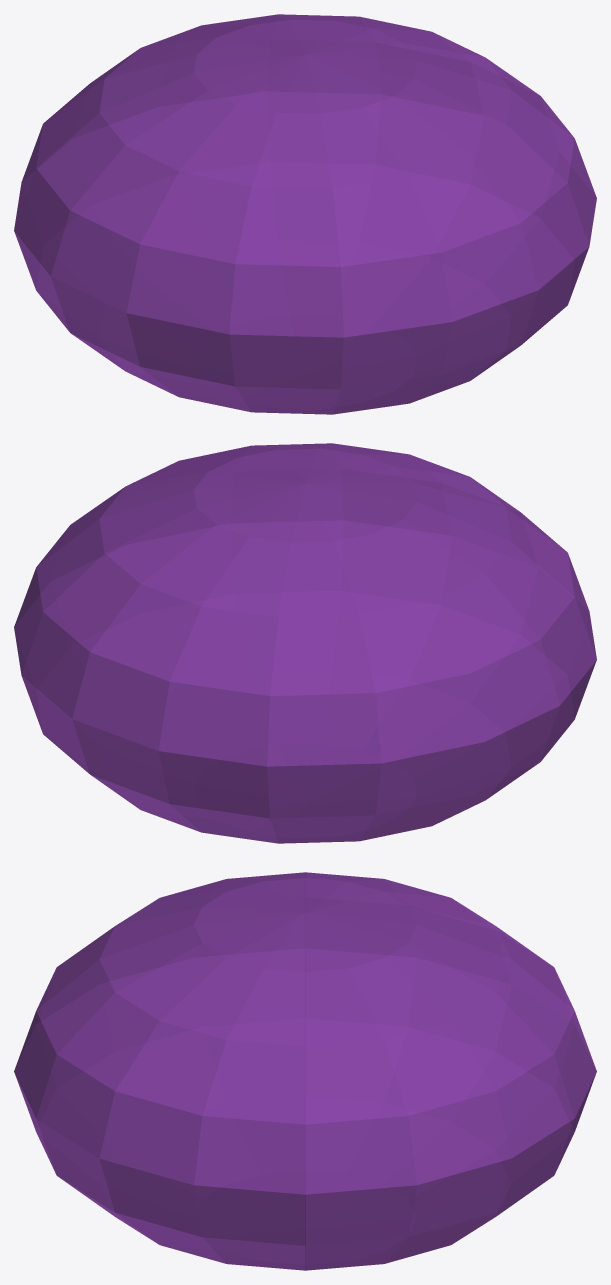
The model's file is HoverPodGlass.fbx.
The picture shows the model from 3 angles, top to bottom: view 1: azimuth 30°, elevation 25°; view 2: azimuth 150°, elevation 25°; view 3: azimuth 270°, elevation 25°; orthographic projection.
Visible parts, largest first — view 1: PodDome.001; view 2: PodDome.001; view 3: PodDome.001.
Part boxes in pixels (box(x1,y1,x2,y2)): PodDome.001: box(14, 14, 596, 414); PodDome.001: box(14, 443, 596, 843); PodDome.001: box(14, 872, 596, 1270).
Size of the model in its own units: 520 by 312 by 520.
